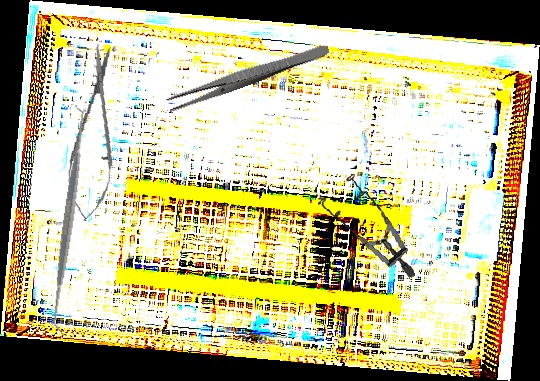Dressing Forceps: (165, 39, 331, 114)
Micro Scissor: (63, 42, 126, 224)
Spatula Surgical: (40, 103, 98, 338)
Speculum: (313, 167, 416, 290)
